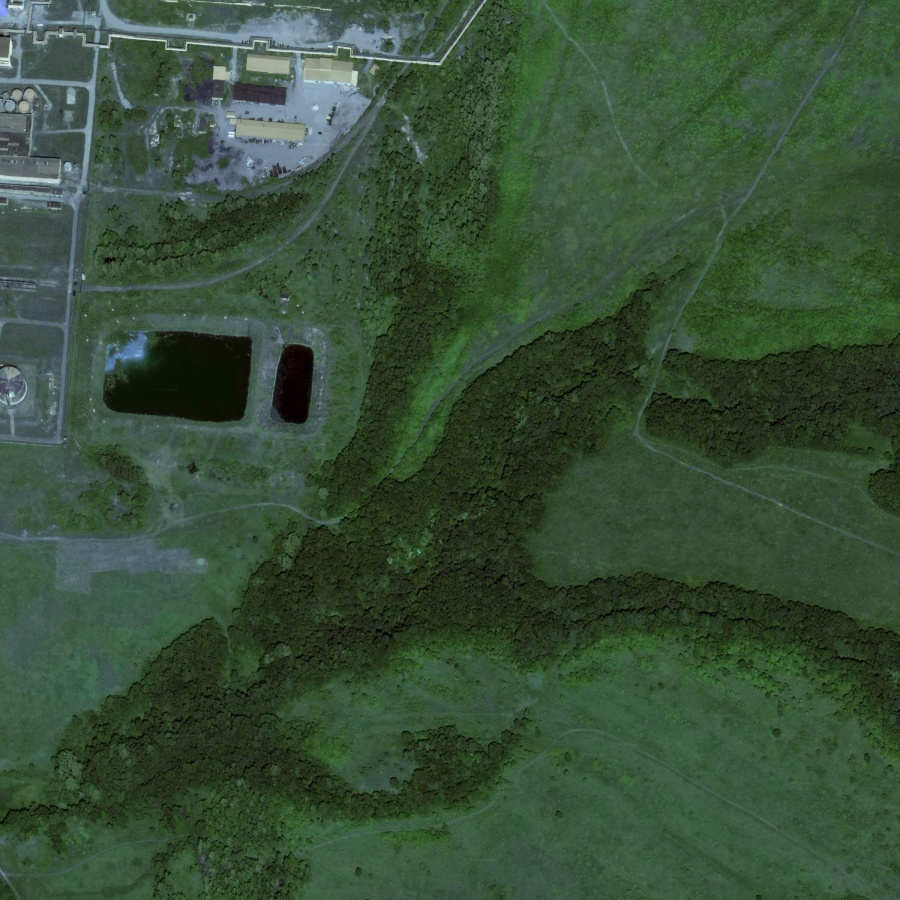PowerPlant: (93, 317, 327, 444)
